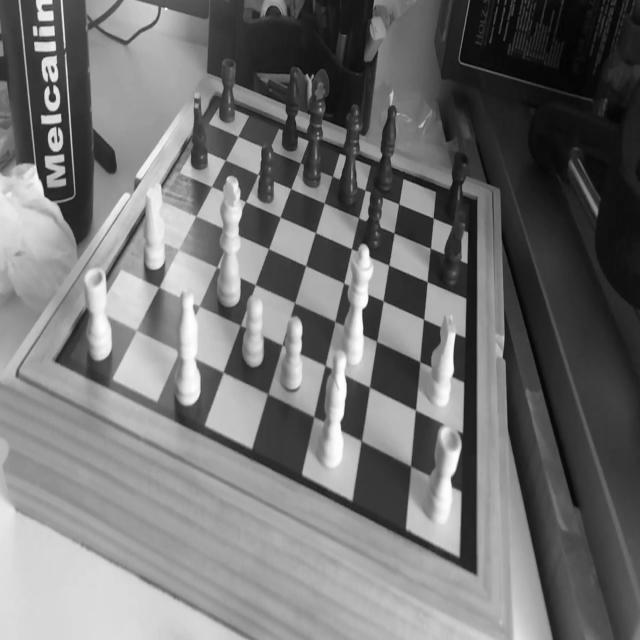chess-table-corners: (460, 554, 486, 592), (41, 344, 66, 369), (466, 188, 486, 212), (208, 84, 222, 104)
